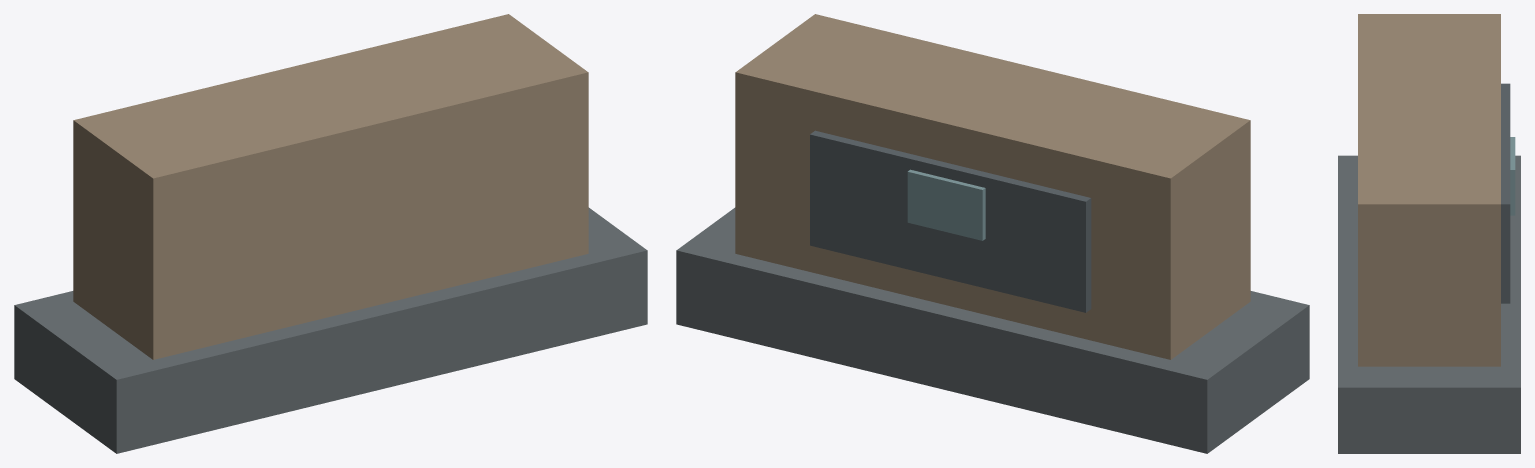
The model's file is iz3_health_reception_02.glb.
3 renders of one model, left to right at view 1: azimuth 30°, elevation 25°; view 2: azimuth 150°, elevation 25°; view 3: azimuth 270°, elevation 25°, orthographic. The views are drawn at different scales.
Parts seen in each view (by area): view 1: cabinet, base; view 2: cabinet, base, panel, display; view 3: cabinet, base, panel, display.
Boxes of the visible parts, x1=… form: cabinet: x1=73, y1=14, x2=588, y2=359; base: x1=14, y1=207, x2=647, y2=453; cabinet: x1=735, y1=14, x2=1250, y2=359; base: x1=676, y1=207, x2=1309, y2=453; panel: x1=810, y1=130, x2=1091, y2=312; display: x1=907, y1=169, x2=985, y2=240; cabinet: x1=1358, y1=14, x2=1500, y2=366; base: x1=1338, y1=155, x2=1520, y2=453; panel: x1=1501, y1=83, x2=1510, y2=303; display: x1=1510, y1=137, x2=1515, y2=215.
Bounding box in the file's own units: 2.4 × 1.1 × 0.8.
